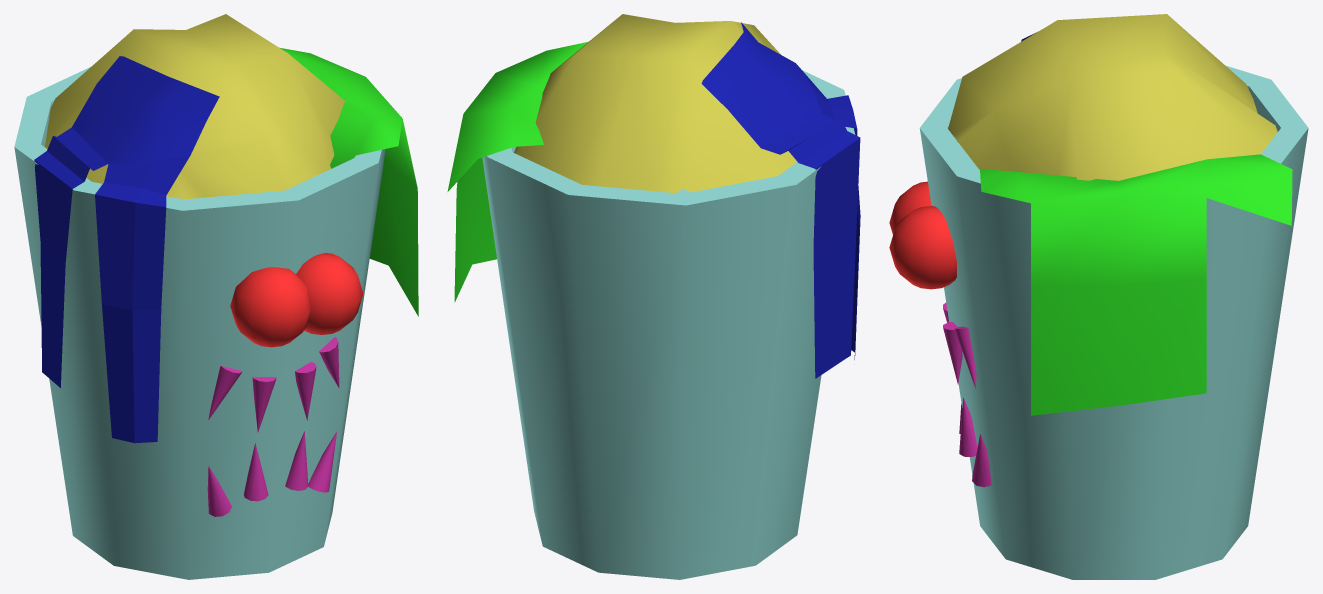
Rendered from Enemy1.FBX.
3 renders of one model, left to right at view 1: azimuth 30°, elevation 25°; view 2: azimuth 150°, elevation 25°; view 3: azimuth 270°, elevation 25°, orthographic.
Visible parts, largest first — view 1: Cuboropa, Pantalon, Ropa, Camiseta, Ojos, Colmillos1; view 2: Cuboropa, Ropa, Pantalon, Camiseta; view 3: Cuboropa, Camiseta, Ropa, Ojos, Colmillos1.
Boxes of the visible parts, x1,y1,x2,y2 form: Cuboropa: (14, 66, 385, 579); Pantalon: (34, 56, 219, 443); Ropa: (44, 14, 346, 199); Camiseta: (279, 47, 418, 316); Ojos: (230, 253, 363, 347); Colmillos1: (207, 337, 339, 516); Cuboropa: (482, 70, 855, 579); Ropa: (514, 14, 797, 193); Pantalon: (701, 22, 860, 378); Camiseta: (447, 41, 588, 302); Cuboropa: (919, 66, 1308, 579); Camiseta: (979, 154, 1292, 415); Ropa: (948, 14, 1277, 180); Ojos: (889, 181, 956, 289); Colmillos1: (943, 302, 991, 487).
Size of the model in its own units: 46.59 by 61.67 by 47.71.
